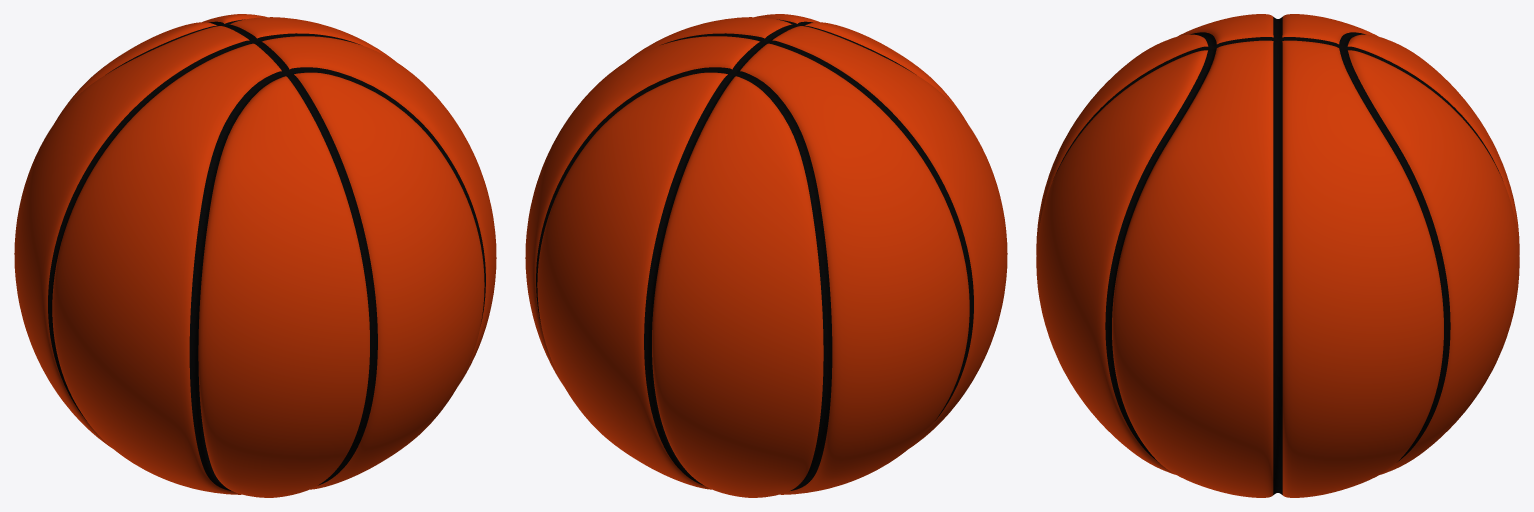
File: top.obj
3 renders of one model, left to right at view 1: azimuth 30°, elevation 25°; view 2: azimuth 150°, elevation 25°; view 3: azimuth 270°, elevation 25°, orthographic.
Visible parts, largest first — view 1: Cube; view 2: Cube; view 3: Cube.
Part boxes in pixels (<box>): Cube: <box>14,14,496,497</box>; Cube: <box>525,14,1007,497</box>; Cube: <box>1036,14,1519,497</box>.
Size of the model in its own units: 1.61 by 1.61 by 1.61.
